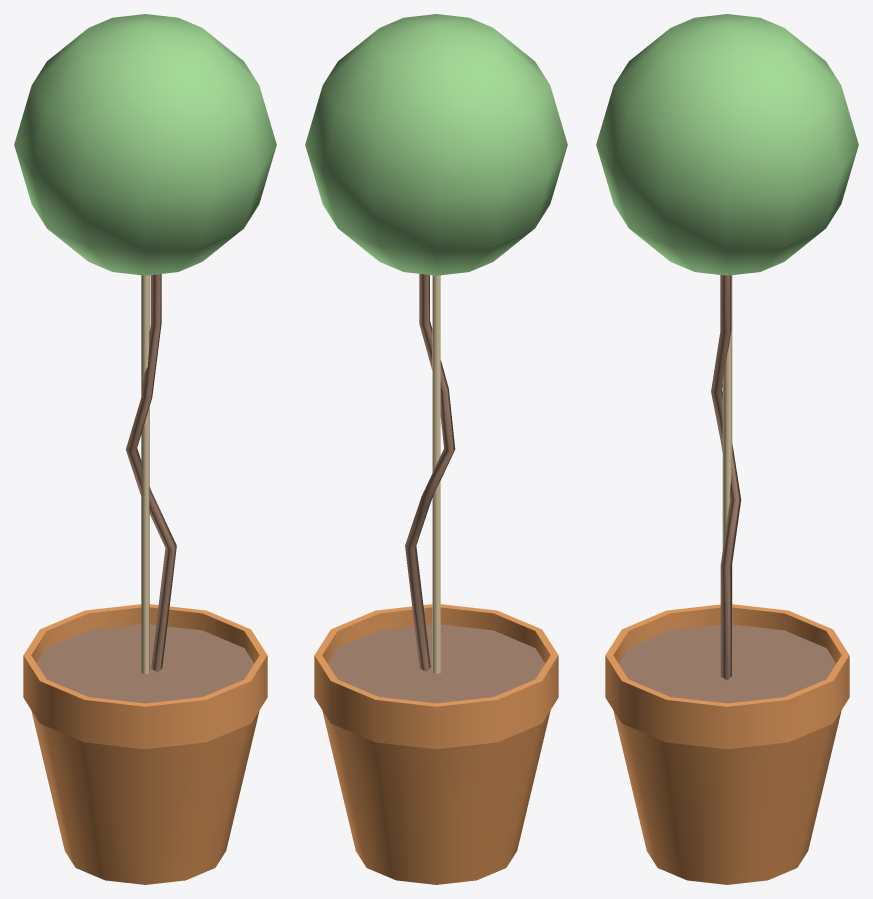
File: tree.obj
The picture shows the model from 3 angles, left to right: view 1: azimuth 30°, elevation 25°; view 2: azimuth 150°, elevation 25°; view 3: azimuth 270°, elevation 25°; orthographic projection.
Visible parts, largest first — view 1: Mesh1 topiary Potted_topiary_plant1 Model, Mesh5 topiary_potted_quarter2 Potted_topiary_plant1 Model, Mesh6 topiary_potted_quarter3 Potted_topiary_plant1 Model, Mesh4 topiary_potted_quarter1 Potted_topiary_plant1 Model, Mesh7 topiary_potted_quarter4 Potted_topiary_plant1 Model, Mesh2 topiary Potted_topiary_plant1 Model, Mesh3 topiary Potted_topiary_plant1 Model; view 2: Mesh1 topiary Potted_topiary_plant1 Model, Mesh6 topiary_potted_quarter3 Potted_topiary_plant1 Model, Mesh7 topiary_potted_quarter4 Potted_topiary_plant1 Model, Mesh5 topiary_potted_quarter2 Potted_topiary_plant1 Model, Mesh4 topiary_potted_quarter1 Potted_topiary_plant1 Model, Mesh2 topiary Potted_topiary_plant1 Model, Mesh3 topiary Potted_topiary_plant1 Model; view 3: Mesh1 topiary Potted_topiary_plant1 Model, Mesh4 topiary_potted_quarter1 Potted_topiary_plant1 Model, Mesh7 topiary_potted_quarter4 Potted_topiary_plant1 Model, Mesh5 topiary_potted_quarter2 Potted_topiary_plant1 Model, Mesh6 topiary_potted_quarter3 Potted_topiary_plant1 Model, Mesh2 topiary Potted_topiary_plant1 Model, Mesh3 topiary Potted_topiary_plant1 Model.
Part boxes in pixels (x1,y1,x2,y2): Mesh1 topiary Potted_topiary_plant1 Model: (14, 14, 276, 275); Mesh5 topiary_potted_quarter2 Potted_topiary_plant1 Model: (62, 673, 228, 884); Mesh6 topiary_potted_quarter3 Potted_topiary_plant1 Model: (23, 620, 142, 873); Mesh4 topiary_potted_quarter1 Potted_topiary_plant1 Model: (148, 620, 267, 873); Mesh7 topiary_potted_quarter4 Potted_topiary_plant1 Model: (63, 604, 227, 669); Mesh2 topiary Potted_topiary_plant1 Model: (126, 274, 176, 672); Mesh3 topiary Potted_topiary_plant1 Model: (141, 275, 149, 673); Mesh1 topiary Potted_topiary_plant1 Model: (305, 14, 567, 275); Mesh6 topiary_potted_quarter3 Potted_topiary_plant1 Model: (406, 667, 550, 884); Mesh7 topiary_potted_quarter4 Potted_topiary_plant1 Model: (314, 642, 434, 882); Mesh5 topiary_potted_quarter2 Potted_topiary_plant1 Model: (440, 607, 558, 858); Mesh4 topiary_potted_quarter1 Potted_topiary_plant1 Model: (323, 604, 466, 671); Mesh2 topiary Potted_topiary_plant1 Model: (405, 274, 455, 671); Mesh3 topiary Potted_topiary_plant1 Model: (432, 275, 440, 673); Mesh1 topiary Potted_topiary_plant1 Model: (596, 14, 858, 275); Mesh4 topiary_potted_quarter1 Potted_topiary_plant1 Model: (613, 667, 757, 884); Mesh7 topiary_potted_quarter4 Potted_topiary_plant1 Model: (731, 642, 849, 882); Mesh5 topiary_potted_quarter2 Potted_topiary_plant1 Model: (605, 607, 720, 858); Mesh6 topiary_potted_quarter3 Potted_topiary_plant1 Model: (697, 604, 840, 671); Mesh2 topiary Potted_topiary_plant1 Model: (711, 275, 741, 680); Mesh3 topiary Potted_topiary_plant1 Model: (722, 275, 732, 671).
Size of the model in its own units: 2.1 by 7.28 by 2.1.
